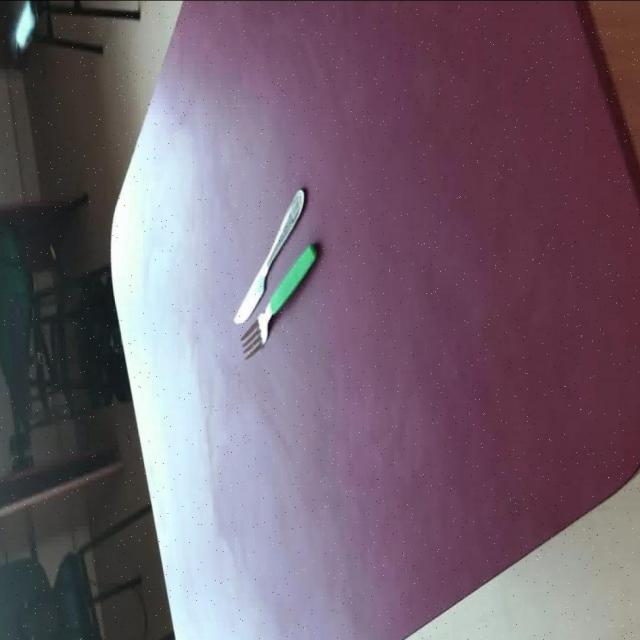Fork: (239, 244, 318, 363)
Knife: (231, 188, 318, 364), (232, 189, 305, 327)
